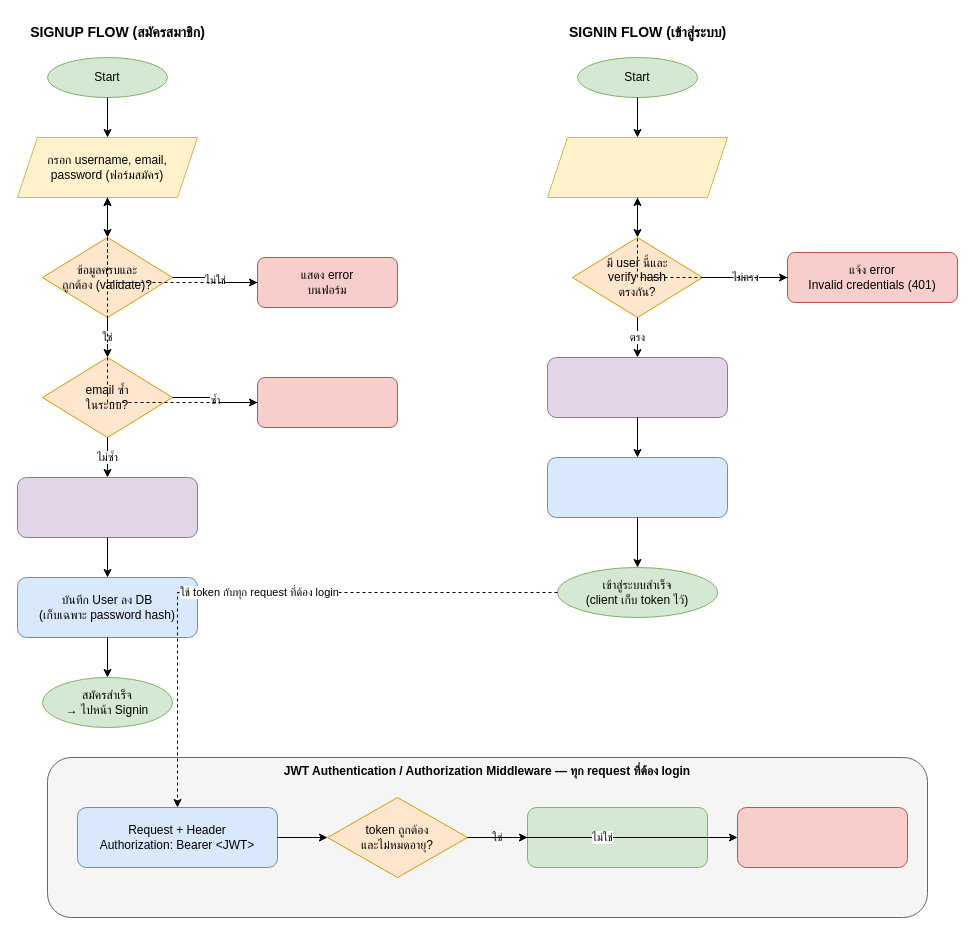
This 975x935 diagram has some shape labels left out. Here are the shapes that lost their labels. From the top down, the centre of each, then its label:
At point (637, 167): "กรอก email + password".
At point (327, 402): "แจ้งว่า email ถูกใช้แล้ว".
At point (637, 387): "สร้าง JWT (access + refresh token)".
At point (107, 507): "Hash password (bcrypt / PBKDF2)".
At point (637, 487): "ส่ง token + role กลับให้ client (JSON)".
At point (617, 837): "ผ่าน → เข้าถึง API ได้ (Authorization ตาม role)".
At point (822, 837): "401 Unauthorized → refresh token หรือ login ใหม่".
